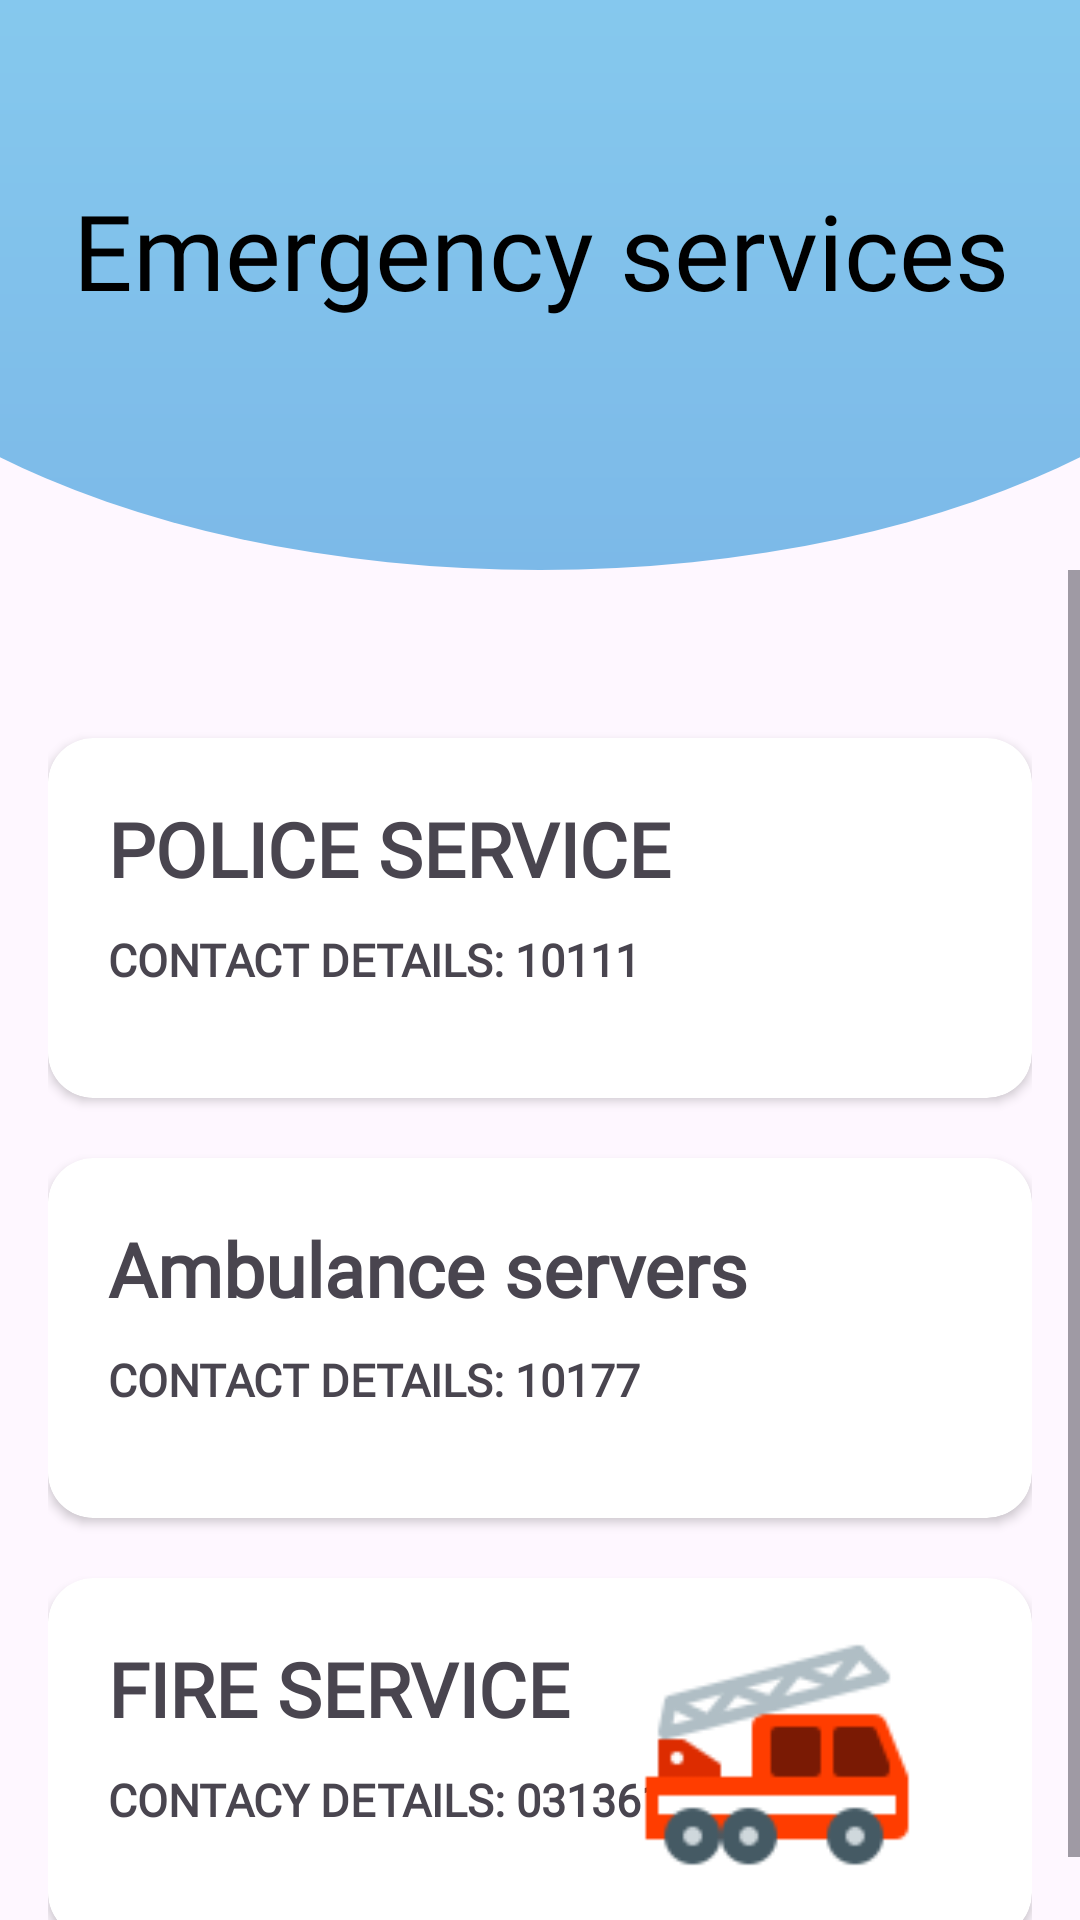

Point at icon controls on the screen. Image size 1080*1920, points as (x,y).
fire truck: (739,1755)
